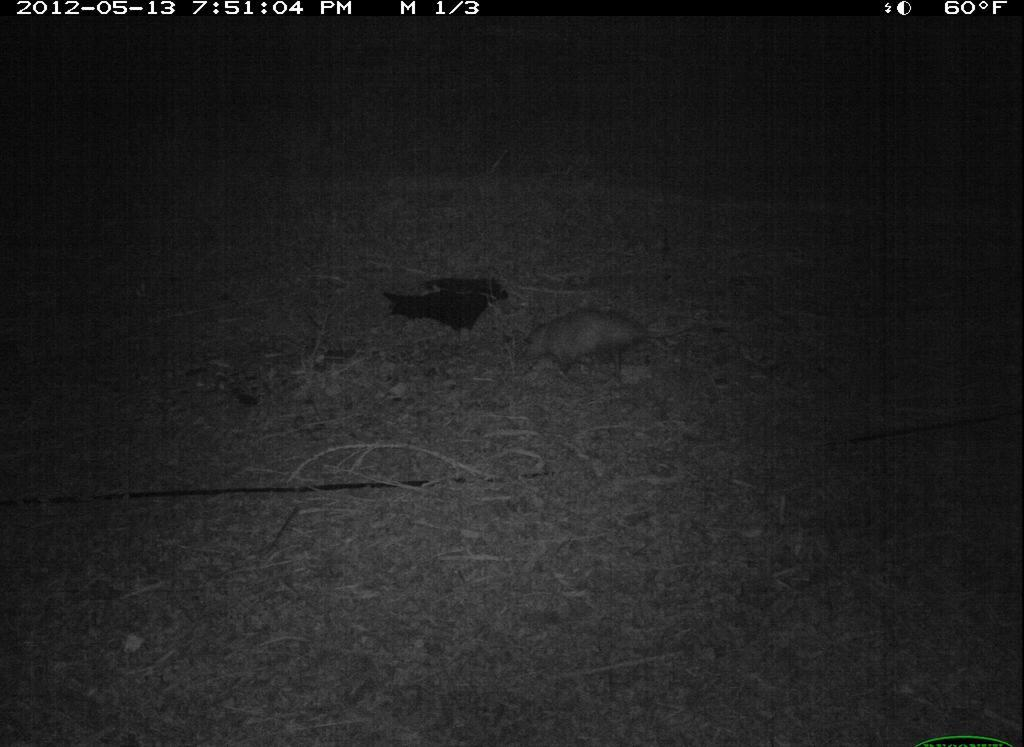opossum: (521, 304, 697, 382)
